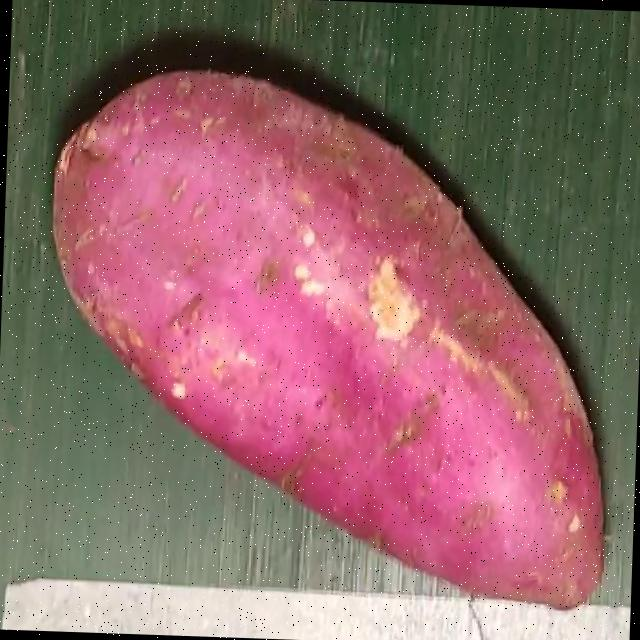Sweet Potato: (47, 64, 604, 611)
